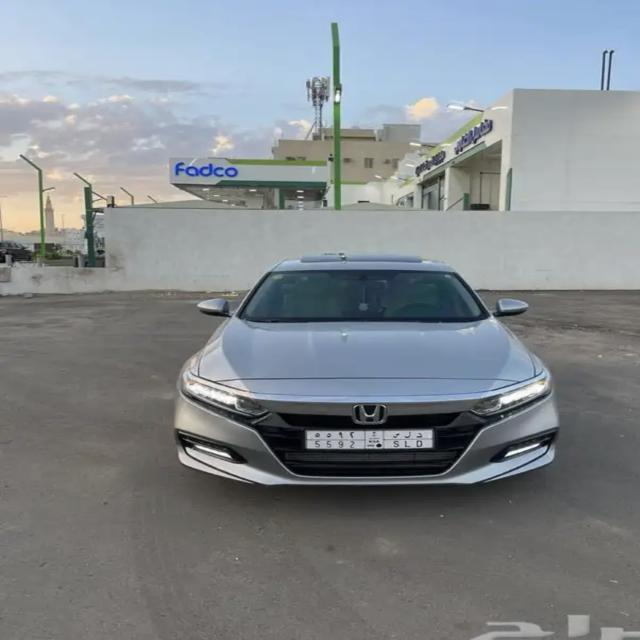license_plate: (304, 428, 436, 452)
